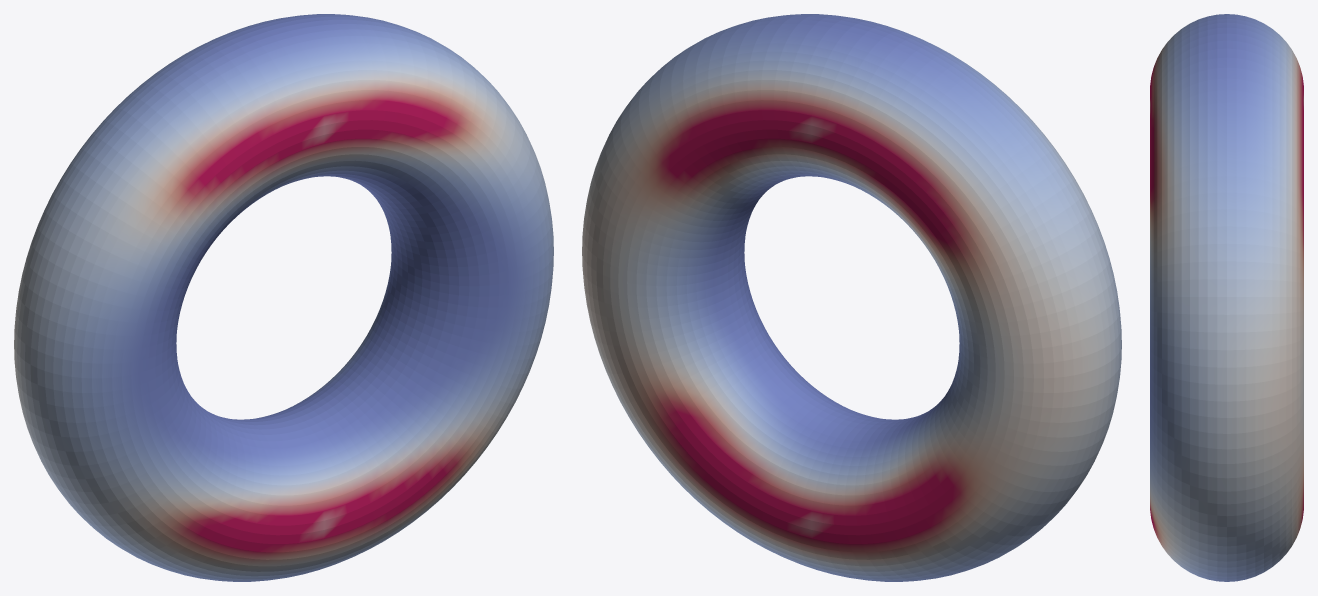
3 views of the same model, side by side, from view 1: azimuth 30°, elevation 25°; view 2: azimuth 150°, elevation 25°; view 3: azimuth 270°, elevation 25° (orthographic). The views are drawn at different scales.
Parts seen in each view (by area): view 1: world; view 2: world; view 3: world.
Part boxes in pixels (<box>): world: <box>14,14,553,581</box>; world: <box>582,14,1121,581</box>; world: <box>1150,14,1303,581</box>.
Bounding box in the file's own units: 20.13 × 20.13 × 5.46.
